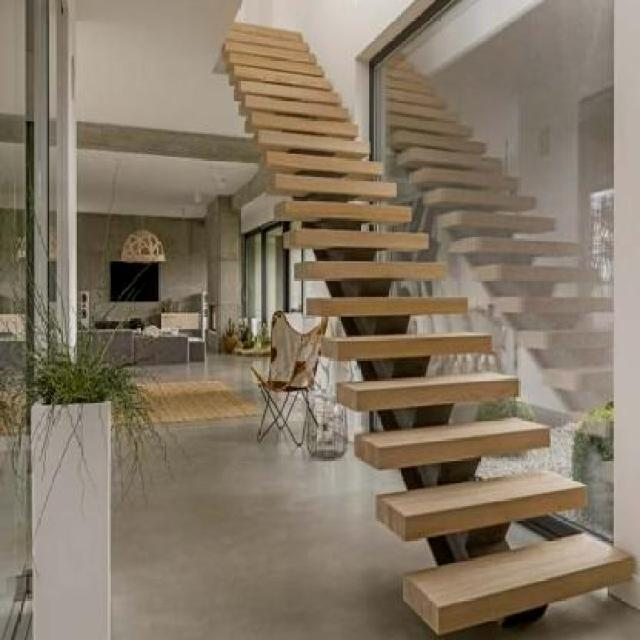stair: (204, 3, 636, 626)
